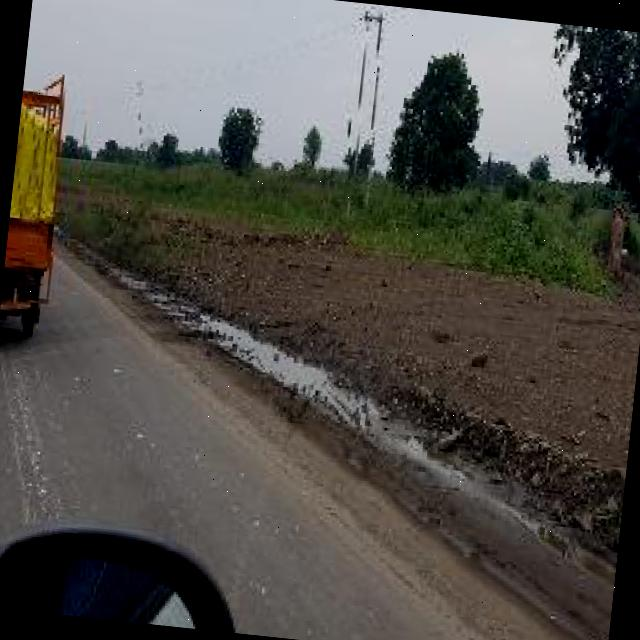stagnation: (154, 290, 455, 486)
